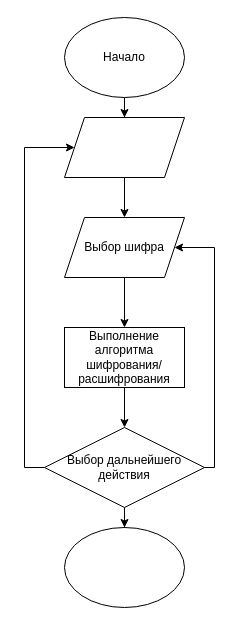
Some shapes in this 240 by 625 pixel diagram are drawn without their labels. The shapes that lost their labels are listed below. From the top down, each one's box as (x1, y1, x2, y2) in pixels, then its label:
(64, 116, 184, 178): Выбор блока
(64, 526, 184, 608): Конец
